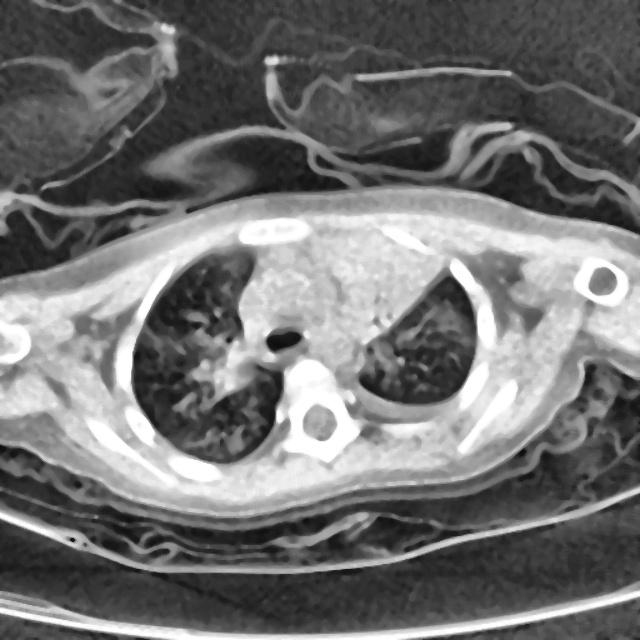covid: (0, 183, 639, 574)
